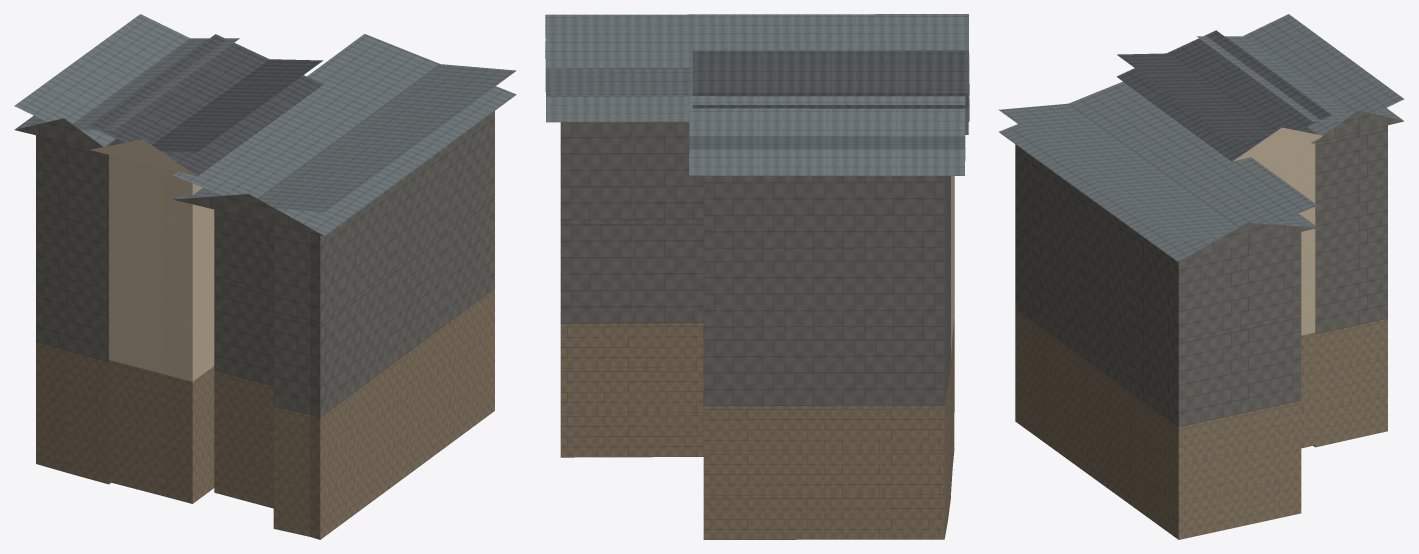
File: bld_c23_29_398.gltf
3 views of the same model, side by side, from view 1: azimuth 30°, elevation 25°; view 2: azimuth 150°, elevation 25°; view 3: azimuth 270°, elevation 25° (orthographic). The views are drawn at different scales.
Visible parts, largest first — view 1: bld_c23_29_398; view 2: bld_c23_29_398; view 3: bld_c23_29_398.
Boxes of the visible parts, x1,y1,x2,y2 form: bld_c23_29_398: (14,14,516,539); bld_c23_29_398: (545,14,969,539); bld_c23_29_398: (998,14,1404,539).
Bounding box in the file's own units: 19.35 × 15.2 × 16.64.
7 materials, 7 textured.
